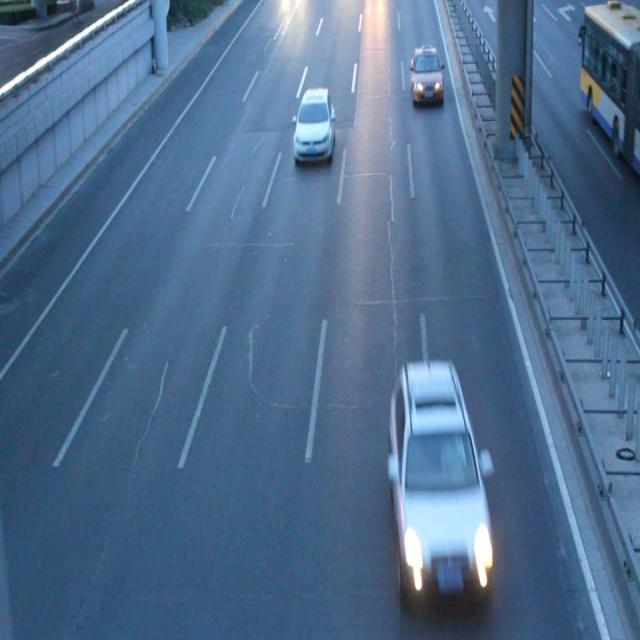car: (386, 358, 493, 607), (292, 87, 335, 164), (408, 47, 443, 106)
